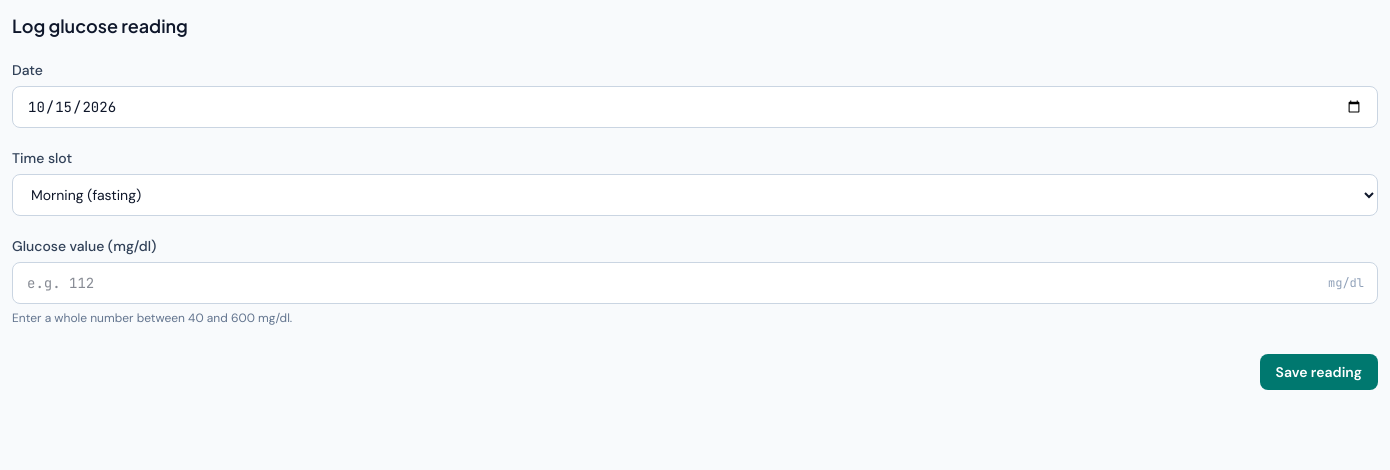
Test: ReadingForm › rejects duplicate slot on the same date
Select "After lunch" in the dropdown labelled "Time slot": (695, 195) [12,174,1378,216]
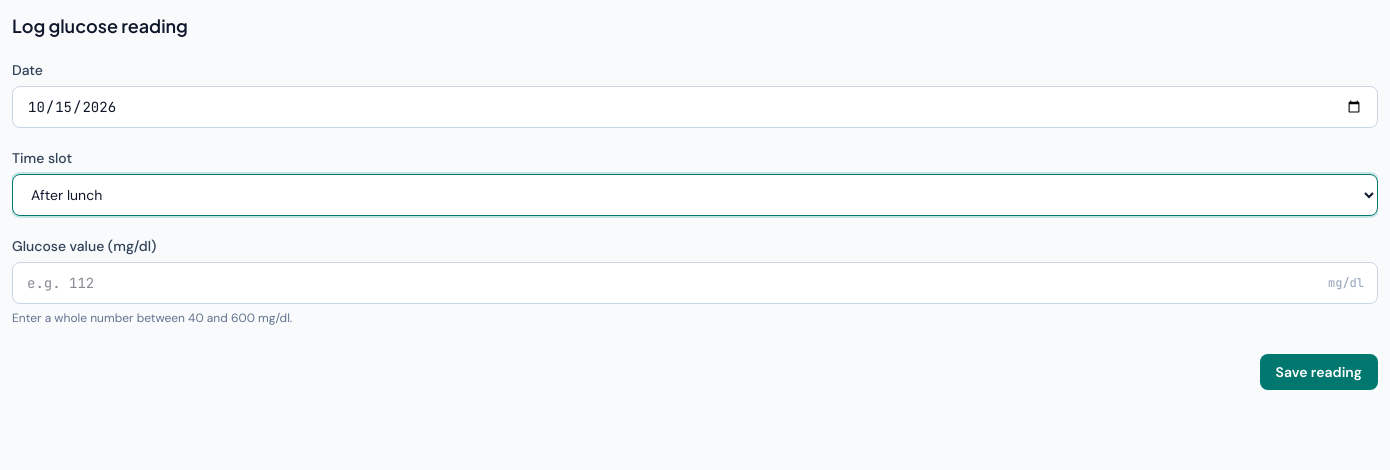
In the field labelled "Glucose value (mg/dl)": (695, 283) [12,262,1378,304], type "142"
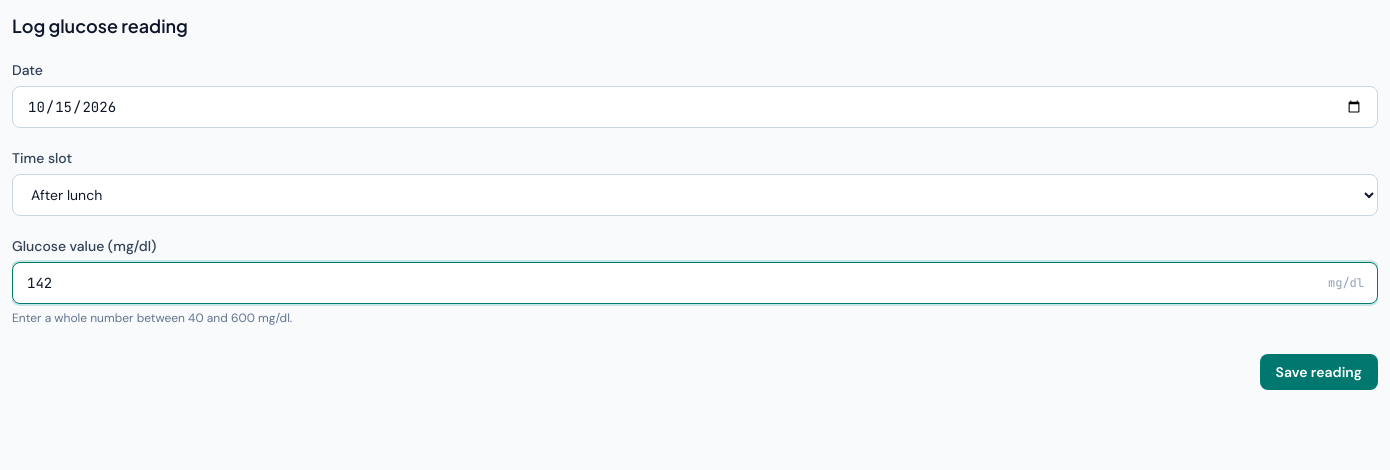
Click the button "Save reading": (1319, 372) [1260,354,1378,390]
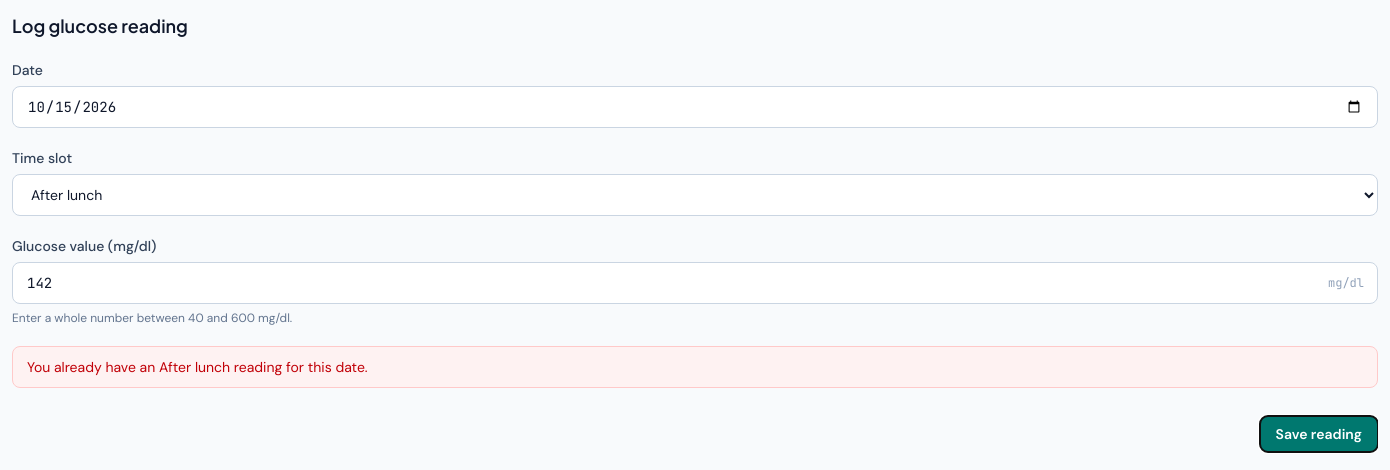
Expected: the message reads "You already have an After lunch reading for this date.", [27,358,368,376]
